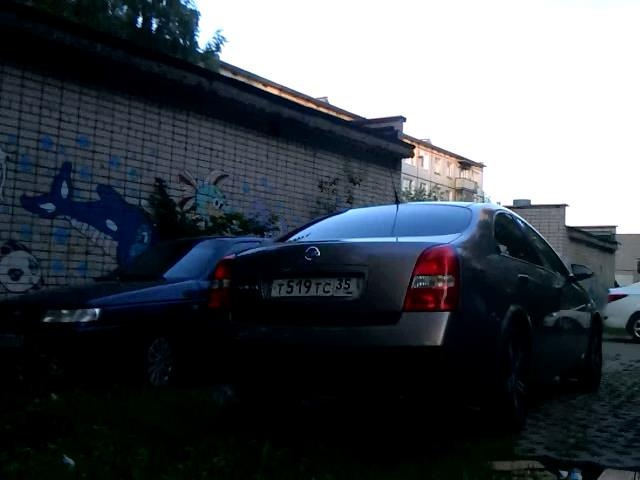car license plate: (268, 272, 362, 303)
